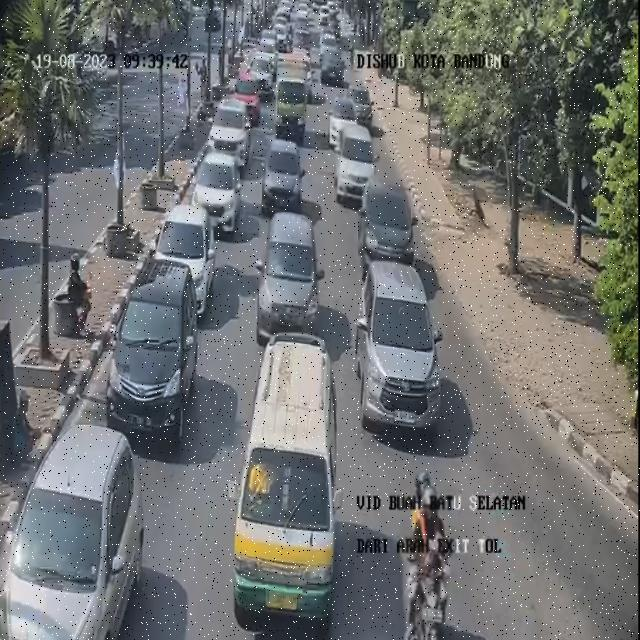cars: (234, 339, 340, 635), (8, 427, 148, 640), (115, 258, 199, 442), (358, 255, 436, 433), (259, 208, 324, 340), (358, 158, 411, 273), (158, 198, 217, 301), (198, 146, 240, 231), (334, 121, 374, 203), (262, 135, 302, 212), (214, 95, 246, 163), (331, 89, 356, 147), (237, 74, 264, 126), (322, 42, 344, 87), (253, 48, 276, 90), (257, 33, 278, 56), (273, 20, 288, 49)
motorcycle: (397, 471, 454, 638)
truck: (273, 52, 309, 134)
